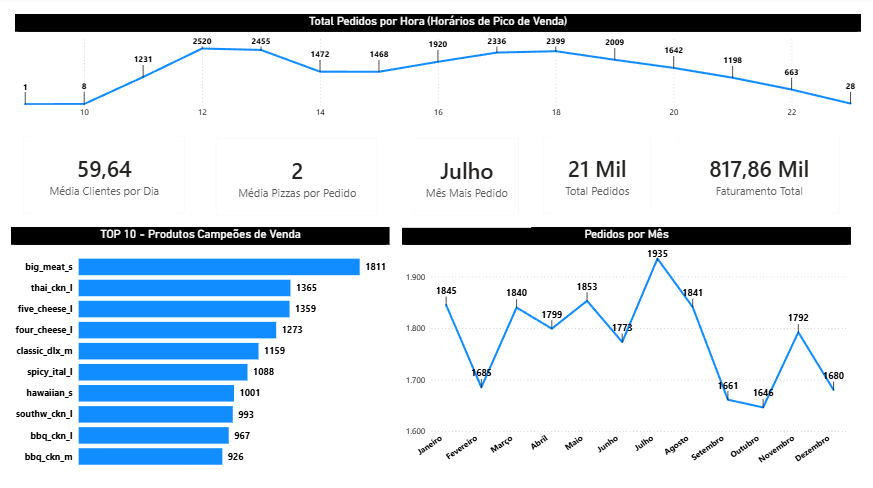

The page's visual inventory and layout, read from the dashboard file:
{"tool":"powerbi","page":{"name":"Página 1","canvas":[1280,720],"ordinal":0},"visuals":[{"type":"cardVisual","fields":{"Data":["Medidas.Clientes por dia"]},"box":[17.1,185.7,271.4,148.6],"z":0},{"type":"lineChart","title":"Total Pedidos por Hora (Horários de Pico de Venda)","fields":{"Category":["dOrders.Hora"],"Y":["Medidas.Total Pedidos"]},"box":[22.9,24.6,1237.7,162],"z":1000},{"type":"cardVisual","fields":{"Data":["dOrderDetails.Pizzas por Pedido"]},"box":[300,188.6,271.4,148.6],"z":2000},{"type":"clusteredBarChart","title":"TOP 10 - Produtos Campeões de Venda","fields":{"Category":["dOrderDetails.pizza_id"],"Y":["CountNonNull(dOrderDetails.order_id)"]},"box":[17.1,337.1,554.3,365.7],"z":3000},{"type":"cardVisual","fields":{"Data":["dOrderDetails.Faturamento Total"]},"box":[975.7,185.7,271.4,148.6],"z":4000},{"type":"lineChart","title":"Pedidos por Mês","fields":{"Category":["dOrders.Mês_Pedido"],"Y":["CountNonNull(dOrders.order_id)"]},"box":[590,337.1,657.1,365.7],"z":5000},{"type":"cardVisual","fields":{"Data":["dOrders.Medida"]},"box":[590,188.6,188.6,148.6],"z":6000},{"type":"cardVisual","fields":{"Data":["Medidas.Total Pedidos"]},"box":[778.6,185.7,192.9,148.6],"z":7000}]}

Visuals, with their boxes in screenshot pixels (x1, y1, x2, y2), scaled from the page's 1280x720 canvas onto the 873x488 screenshot:
cardVisual - Medidas.Clientes por dia: bbox=(12, 126, 197, 227)
"Total Pedidos por Hora (Horários de Pico de Venda)" lineChart: bbox=(16, 17, 860, 126)
cardVisual - dOrderDetails.Pizzas por Pedido: bbox=(205, 128, 390, 229)
"TOP 10 - Produtos Campeões de Venda" clusteredBarChart: bbox=(12, 228, 390, 476)
cardVisual - dOrderDetails.Faturamento Total: bbox=(665, 126, 851, 227)
"Pedidos por Mês" lineChart: bbox=(402, 228, 851, 476)
cardVisual - dOrders.Medida: bbox=(402, 128, 531, 229)
cardVisual - Medidas.Total Pedidos: bbox=(531, 126, 663, 227)
